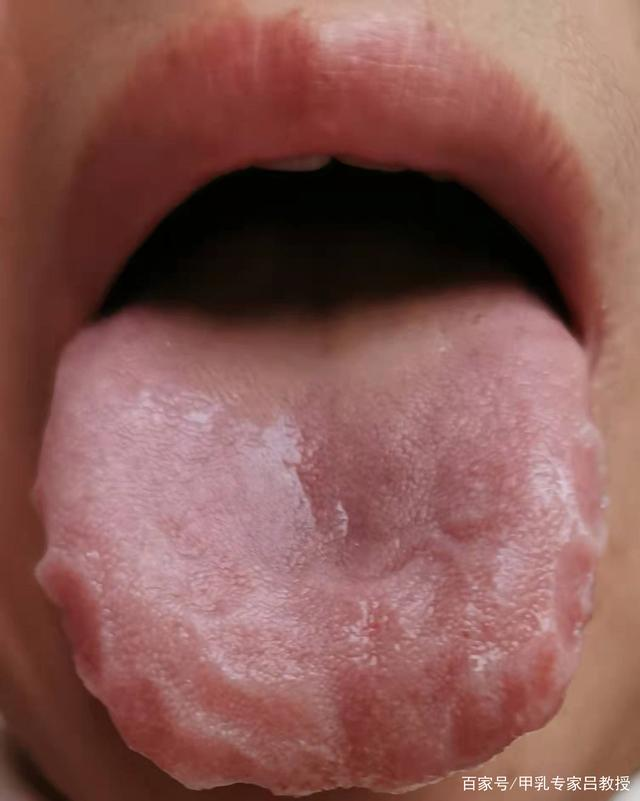baitaishe: (31, 271, 610, 796)
chihenshe: (34, 486, 196, 788), (521, 440, 609, 731)
